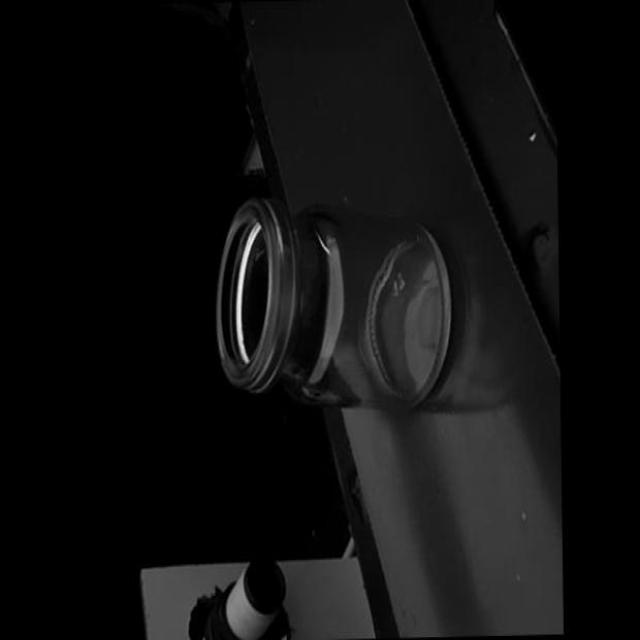defect: (315, 227, 331, 260)
glass: (213, 185, 461, 415)
